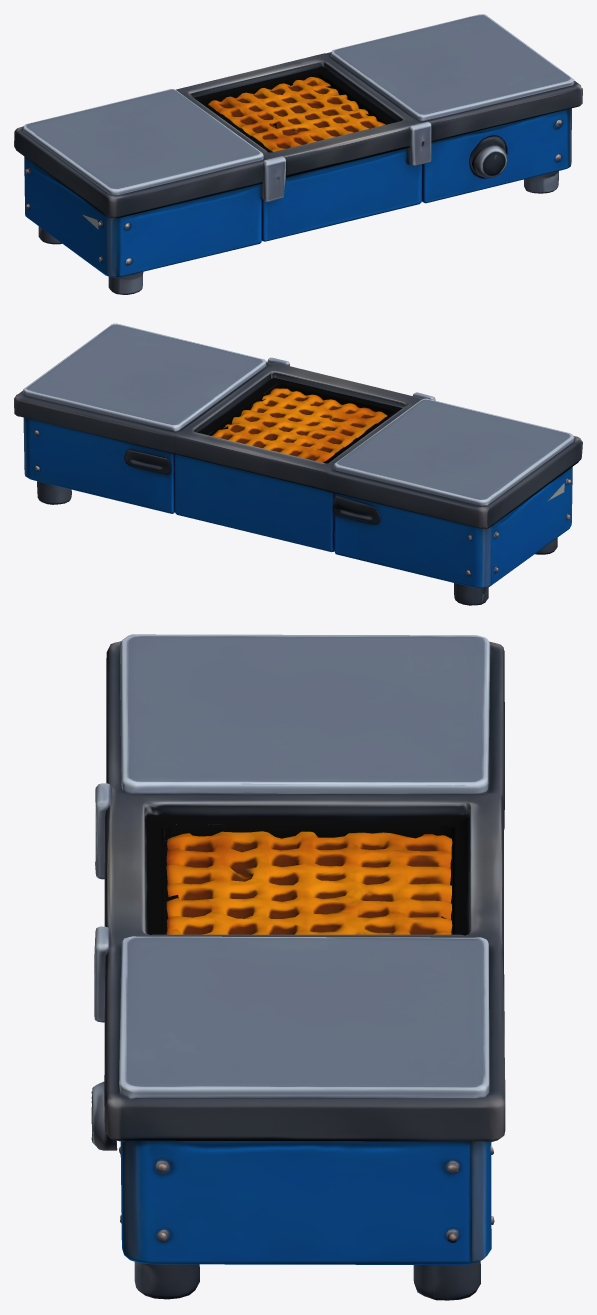
Rendered from processing_counter.glb.
The picture shows the model from 3 angles, top to bottom: view 1: azimuth 30°, elevation 25°; view 2: azimuth 150°, elevation 25°; view 3: azimuth 270°, elevation 25°; orthographic projection. The views are drawn at different scales.
Visible parts, largest first — view 1: geometry_0; view 2: geometry_0; view 3: geometry_0.
Boxes of the visible parts, <box> form: geometry_0: <box>14,14,582,294</box>; geometry_0: <box>14,323,582,605</box>; geometry_0: <box>91,634,505,1300</box>.
Size of the model in its own units: 1 by 0.2291 by 0.3798.
Materials: 1 (1 with a texture image).
